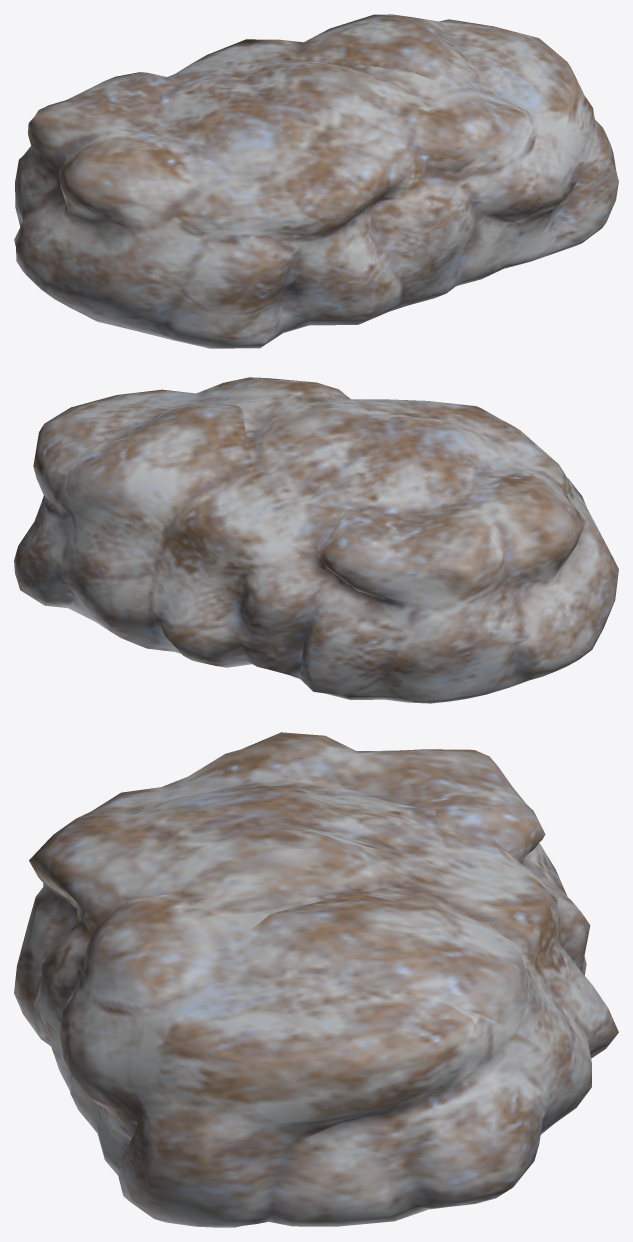
File: sb_obj_nature006_Stone02d.fbx
3 renders of one model, top to bottom at view 1: azimuth 30°, elevation 25°; view 2: azimuth 150°, elevation 25°; view 3: azimuth 270°, elevation 25°, orthographic. The views are drawn at different scales.
Visible parts, largest first — view 1: sb_obj_nature006_Stone02d; view 2: sb_obj_nature006_Stone02d; view 3: sb_obj_nature006_Stone02d.
Boxes of the visible parts, x1,y1,x2,y2 form: sb_obj_nature006_Stone02d: [14, 14, 618, 348]; sb_obj_nature006_Stone02d: [14, 377, 618, 703]; sb_obj_nature006_Stone02d: [14, 732, 618, 1227].
Bounding box in the file's own units: 1.09 × 0.352 × 0.8086.
